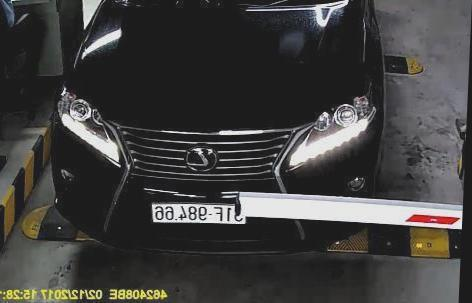License_Plate: (151, 202, 249, 226)
